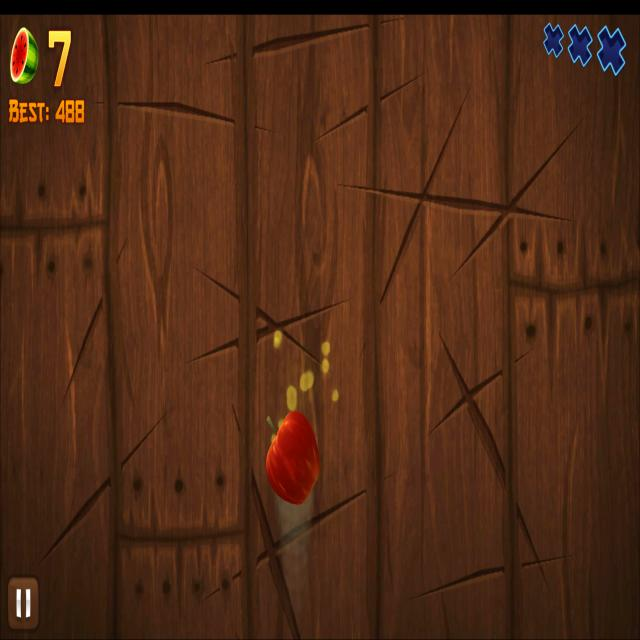fruit: (265, 410, 321, 504)
